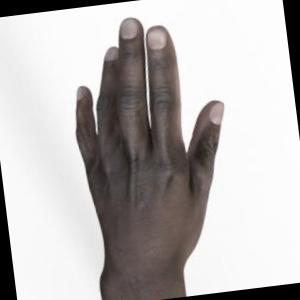paper: (77, 18, 224, 300)
